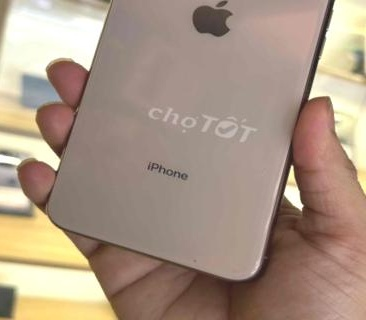scratch: (177, 250, 208, 272)
